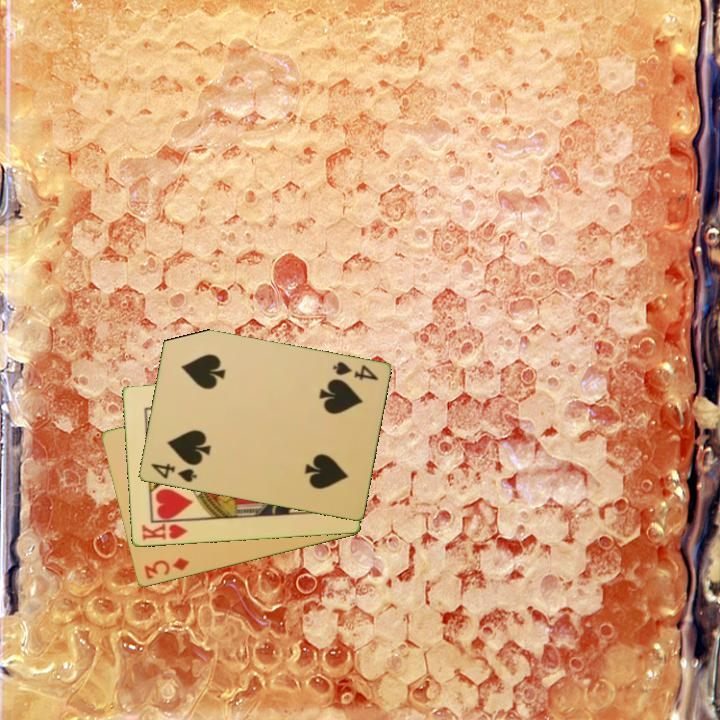3d: (140, 554, 192, 582)
4s: (147, 460, 200, 485), (329, 358, 381, 383)
Kh: (138, 518, 193, 544)
